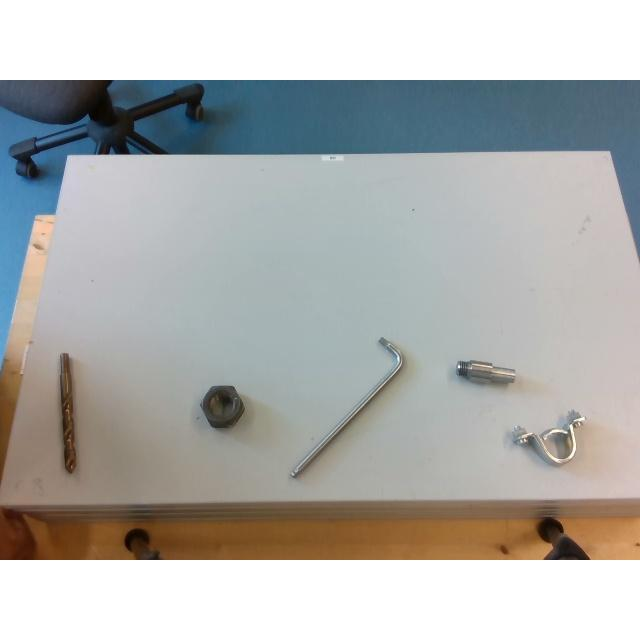AllenKey: (290, 337, 402, 477)
Axis2: (456, 361, 516, 384)
Drill: (60, 352, 76, 472)
Housing: (513, 410, 585, 466)
M30: (200, 386, 243, 426)
